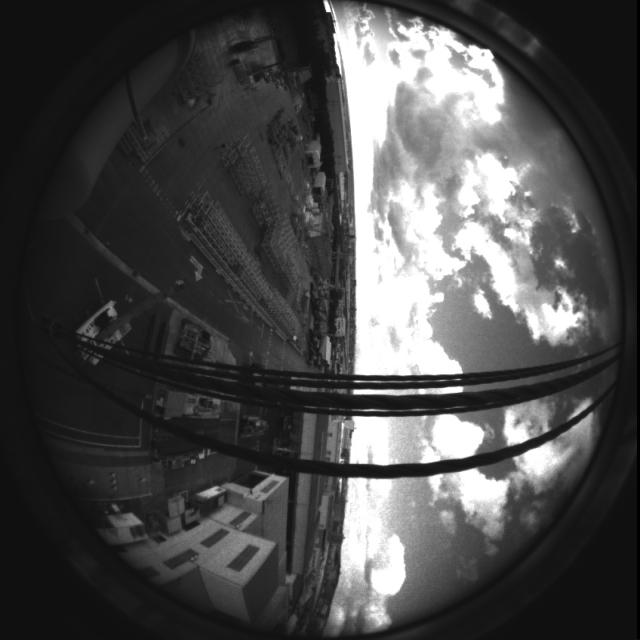rope: (11, 311, 630, 487)
sky: (322, 1, 621, 638)
